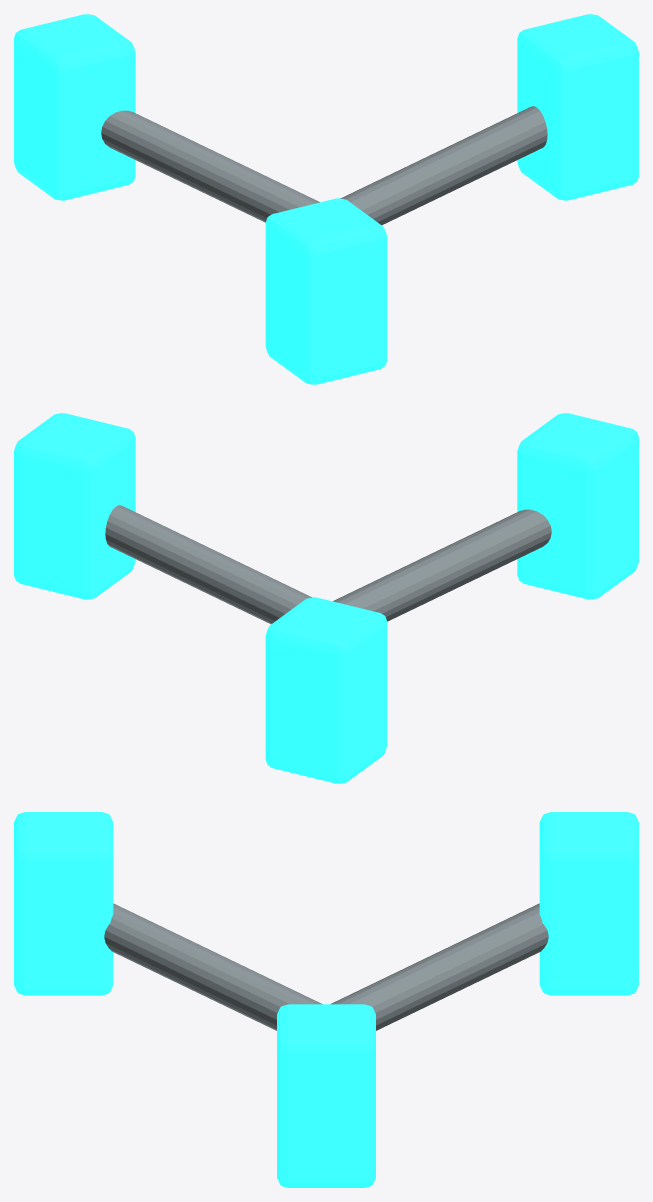
File: SM_TradeBeacon_Motion.fbx
3 renders of one model, top to bottom at view 1: azimuth 30°, elevation 25°; view 2: azimuth 150°, elevation 25°; view 3: azimuth 270°, elevation 25°, orthographic. The views are drawn at different scales.
Parts seen in each view (by area): view 1: SM_TradeBeacon_Motion_Local; view 2: SM_TradeBeacon_Motion_Local; view 3: SM_TradeBeacon_Motion_Local.
Boxes of the visible parts, x1,y1,x2,y2 form: SM_TradeBeacon_Motion_Local: (14,14,638,384); SM_TradeBeacon_Motion_Local: (14,413,638,783); SM_TradeBeacon_Motion_Local: (14,812,638,1187).
Size of the model in its own units: 201 by 227 by 62.8.
